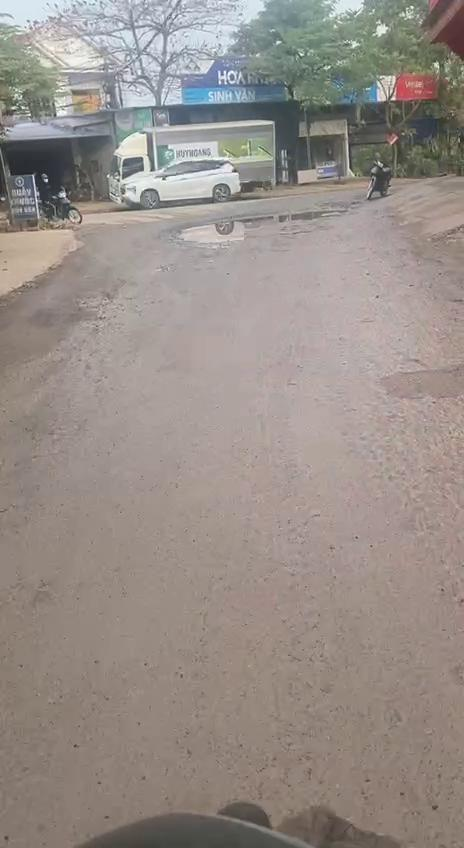pothole: (166, 202, 348, 252)
